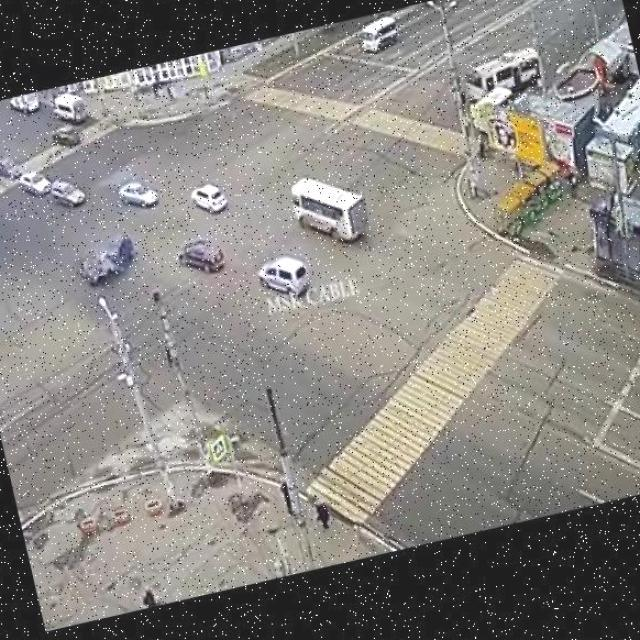accident: (60, 211, 145, 298)
